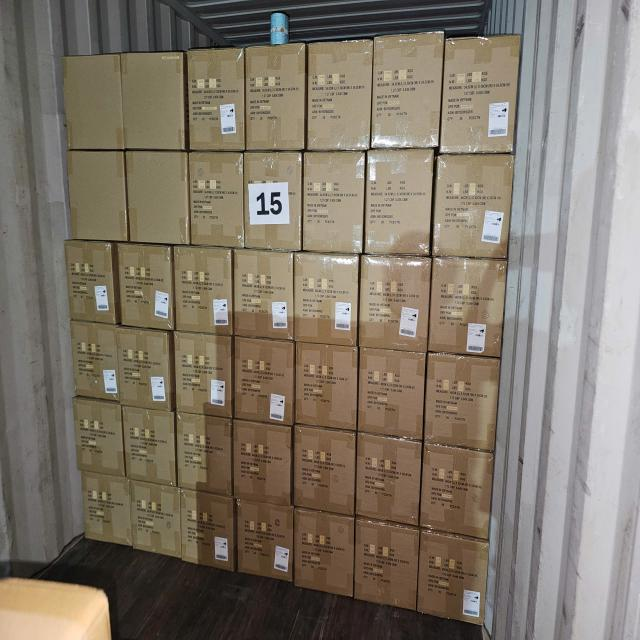Carton: (445, 35, 517, 153), (437, 154, 513, 261), (370, 33, 439, 150), (430, 257, 504, 357), (309, 41, 372, 154), (368, 150, 434, 257), (425, 355, 498, 451), (358, 252, 428, 352), (424, 444, 496, 541), (245, 45, 307, 154), (418, 532, 487, 626), (304, 150, 365, 256), (122, 50, 184, 150), (351, 517, 416, 612), (356, 434, 420, 530), (361, 344, 426, 438), (125, 151, 188, 247), (296, 252, 360, 346), (61, 56, 122, 154), (188, 46, 245, 150), (247, 154, 305, 254), (296, 425, 358, 518), (234, 248, 296, 341), (296, 340, 360, 430), (295, 508, 356, 600), (235, 336, 297, 424), (190, 154, 246, 251), (67, 151, 126, 243), (114, 246, 177, 332), (175, 248, 235, 338), (176, 332, 236, 420), (234, 422, 296, 507), (237, 503, 296, 588), (178, 411, 236, 496), (117, 324, 174, 410), (180, 489, 236, 576), (64, 240, 118, 324), (122, 409, 177, 490), (70, 395, 124, 477), (127, 480, 181, 560), (69, 320, 119, 402), (82, 471, 134, 548)
